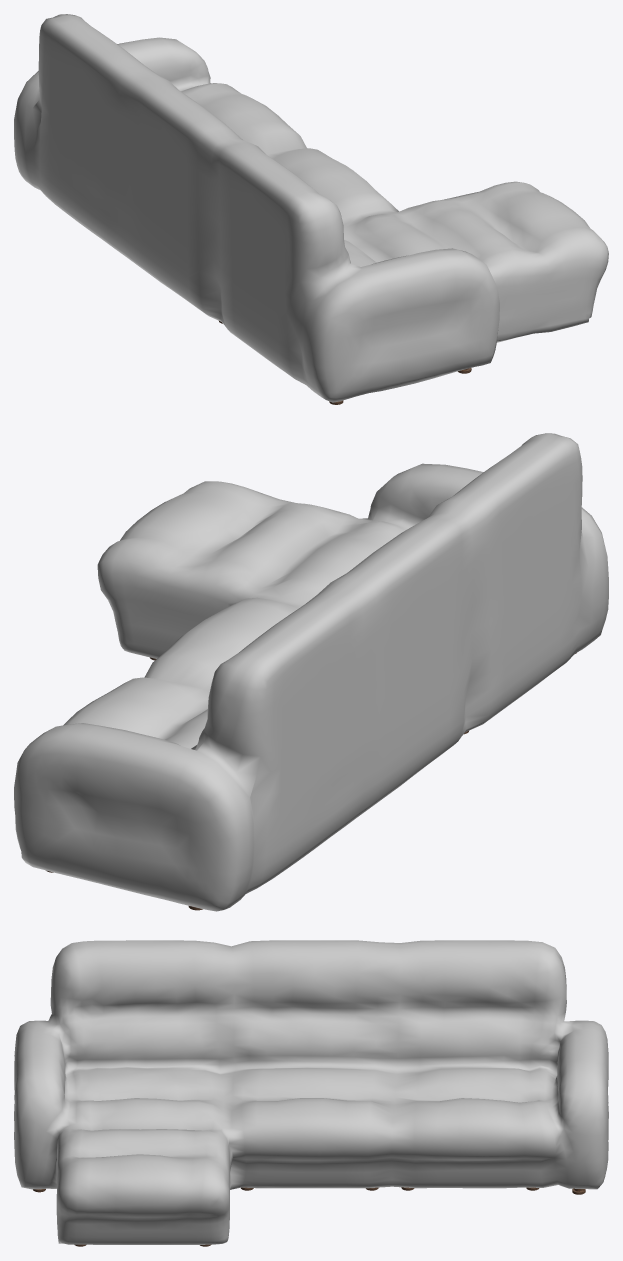
Rendered from sofa_1.FBX.
3 renders of one model, top to bottom at view 1: azimuth 30°, elevation 25°; view 2: azimuth 150°, elevation 25°; view 3: azimuth 270°, elevation 25°, orthographic. The views are drawn at different scales.
Parts seen in each view (by area): view 1: sofa_1; view 2: sofa_1; view 3: sofa_1.
Part boxes in pixels (x1,y1,x2,y2): sofa_1: (14,14,608,404); sofa_1: (14,433,608,911); sofa_1: (14,940,608,1246).
Bounding box in the file's own units: 1632 × 942 × 2783.
